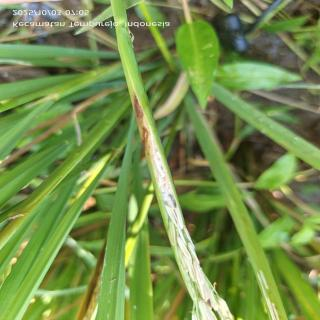Busuk-Pelepah: (133, 95, 150, 154)
